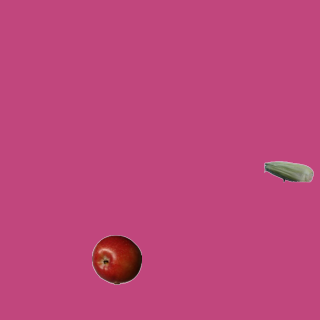Apple Braeburn: (91, 234, 141, 284)
Corn Husk: (263, 146, 313, 196)
